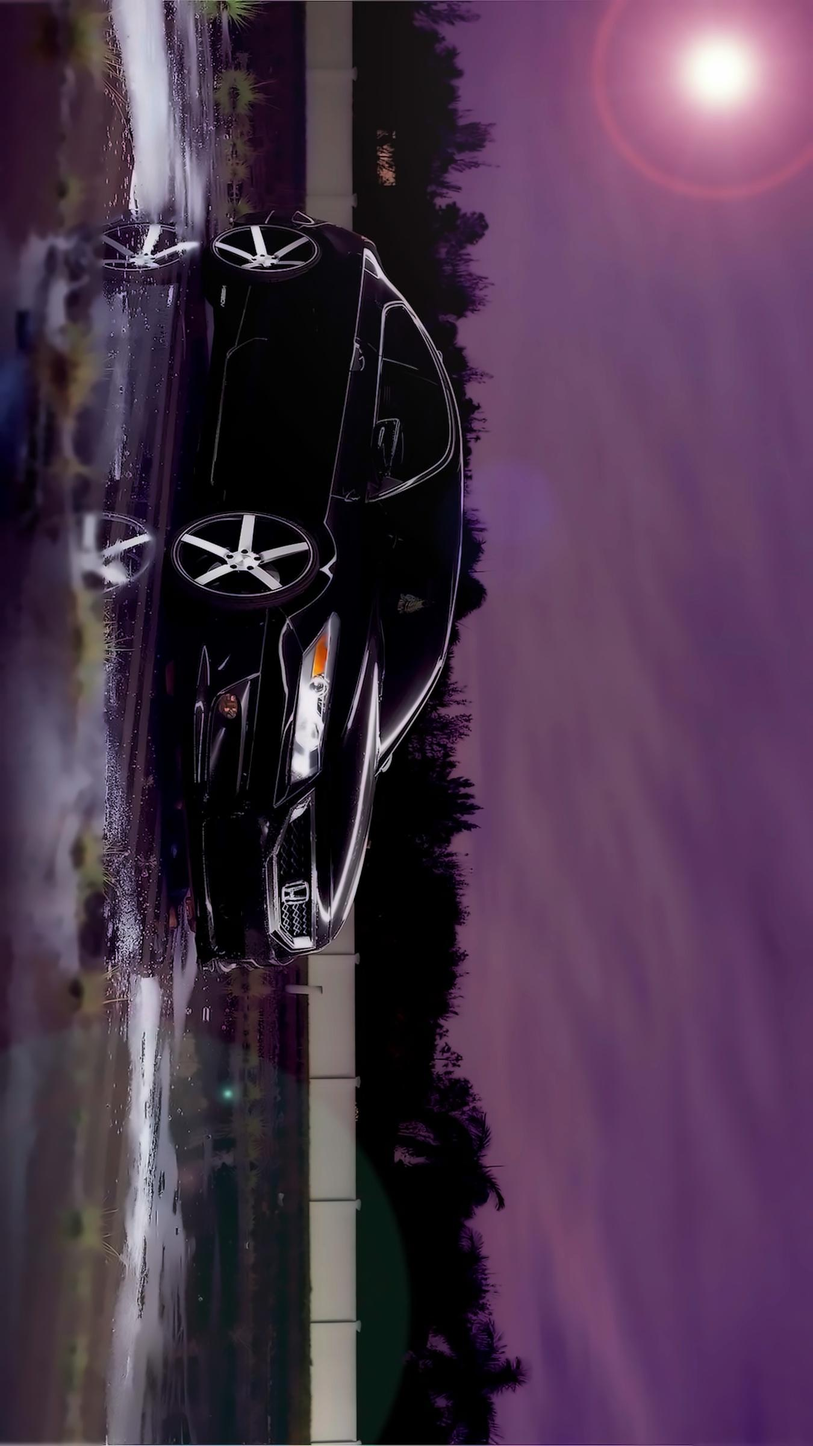Car hood: (307, 554, 382, 929)
Driver-s door - -F-R-: (183, 353, 472, 523)
Fender - -F-R-: (240, 479, 392, 633)
Front bumper: (178, 610, 305, 976)
Headlight - -R-: (283, 610, 339, 794)
Passenger-s door - -R-R-: (203, 271, 458, 409)
Side bumper - -R-: (185, 271, 266, 517)
Side mirror - -R-: (345, 414, 404, 505)
